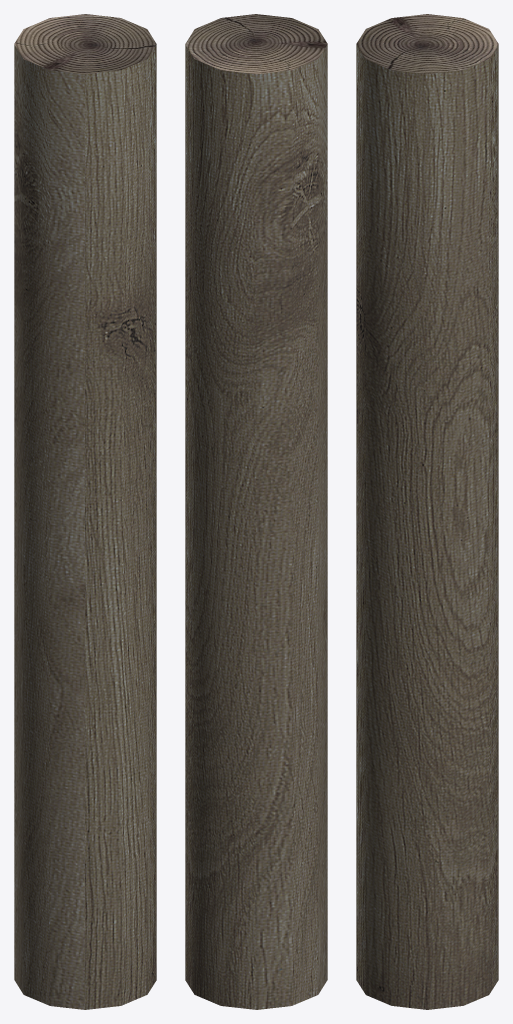
File: SM_Sun_Toilet_Pillar_A.fbx
The picture shows the model from 3 angles, left to right: view 1: azimuth 30°, elevation 25°; view 2: azimuth 150°, elevation 25°; view 3: azimuth 270°, elevation 25°; orthographic projection.
Visible parts, largest first — view 1: SM_Sun_Toilet_Pillar_A; view 2: SM_Sun_Toilet_Pillar_A; view 3: SM_Sun_Toilet_Pillar_A.
Boxes of the visible parts, x1,y1,x2,y2 form: SM_Sun_Toilet_Pillar_A: (14, 14, 156, 1009); SM_Sun_Toilet_Pillar_A: (185, 14, 327, 1009); SM_Sun_Toilet_Pillar_A: (356, 14, 498, 1009).
Bounding box in the file's own units: 38 × 275 × 38.
